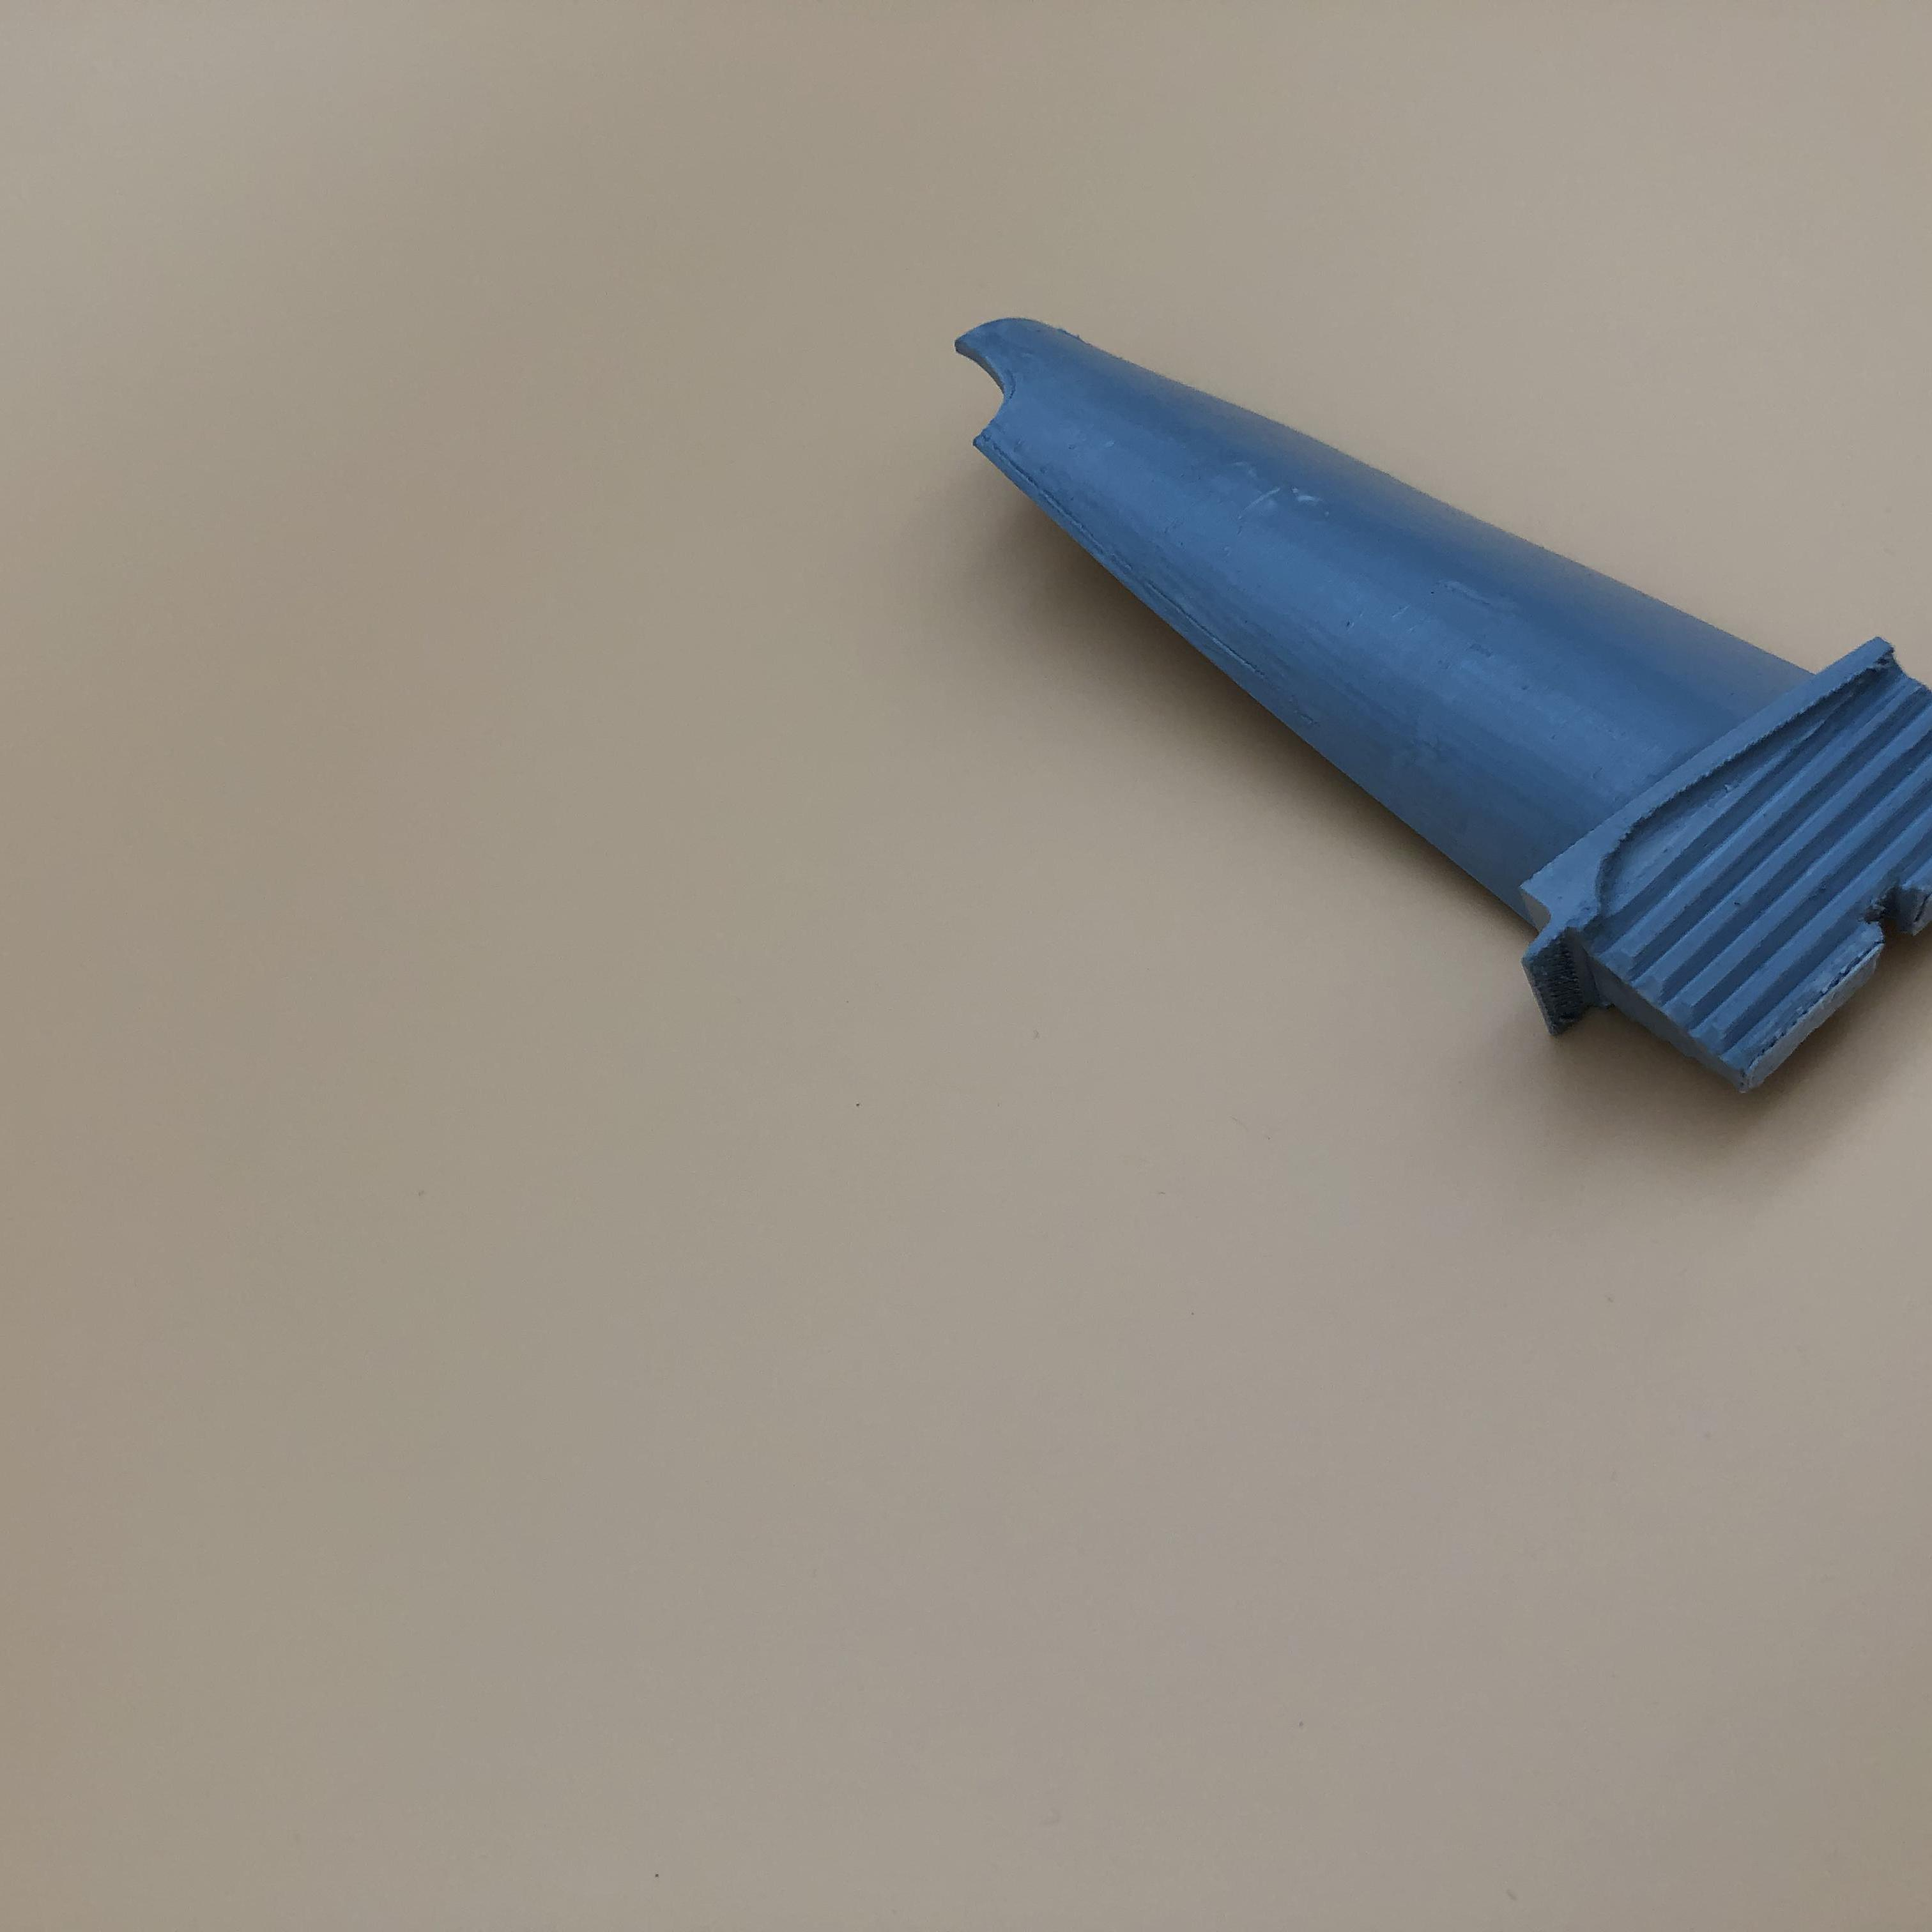fracture: (952, 349, 1017, 453)
